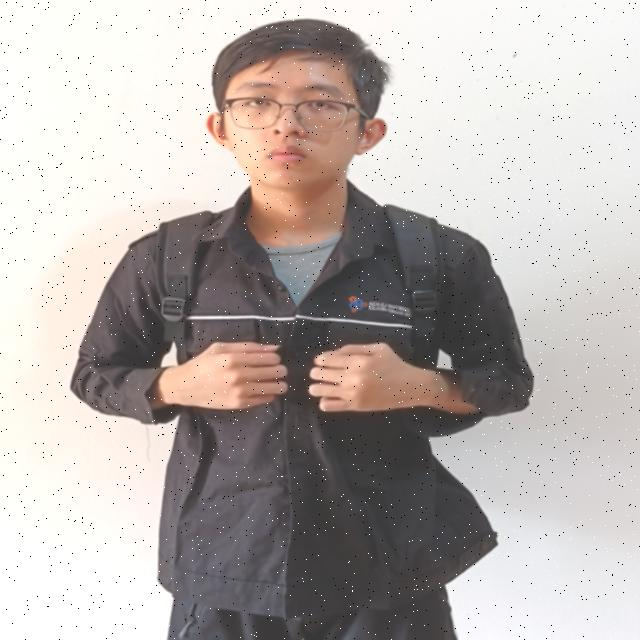person_with_labcoat: (72, 20, 532, 640)
